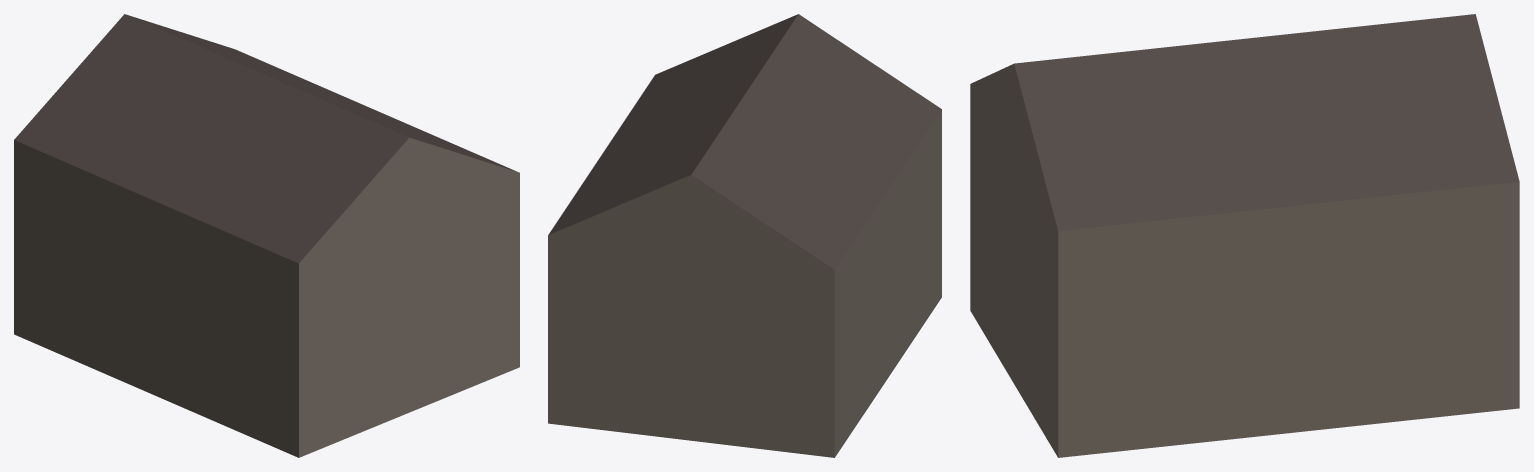
3 renders of one model, left to right at view 1: azimuth 30°, elevation 25°; view 2: azimuth 150°, elevation 25°; view 3: azimuth 270°, elevation 25°, orthographic. The views are drawn at different scales.
Visible parts, largest first — view 1: HP-w446934363; view 2: HP-w446934363; view 3: HP-w446934363.
Part boxes in pixels (bbox=[...]): HP-w446934363: bbox=[14, 14, 519, 457]; HP-w446934363: bbox=[548, 14, 941, 457]; HP-w446934363: bbox=[970, 14, 1519, 457].
Bounding box in the file's own units: 11.17 × 8.49 × 13.17.
